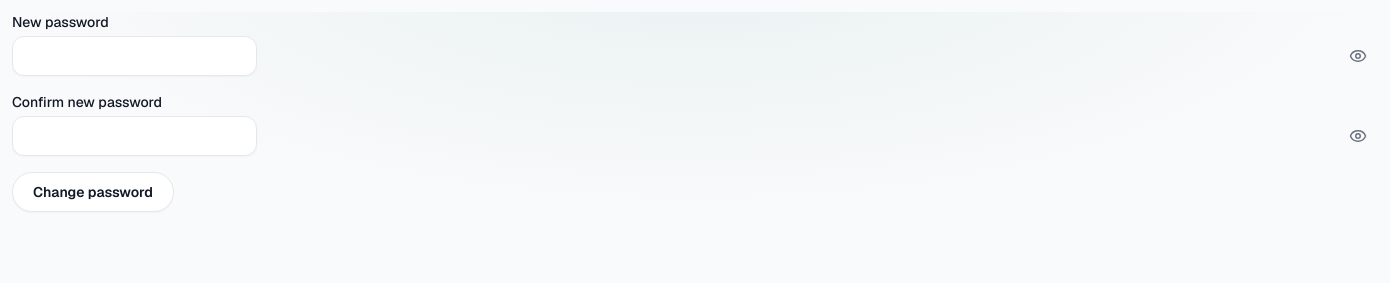
Test: ChangePasswordForm › clears a stale success/error state once the user starts editing again
Step 1. Type "correcthorse" into the password field labelled "New password" → (134, 56), box [12,36,257,76]
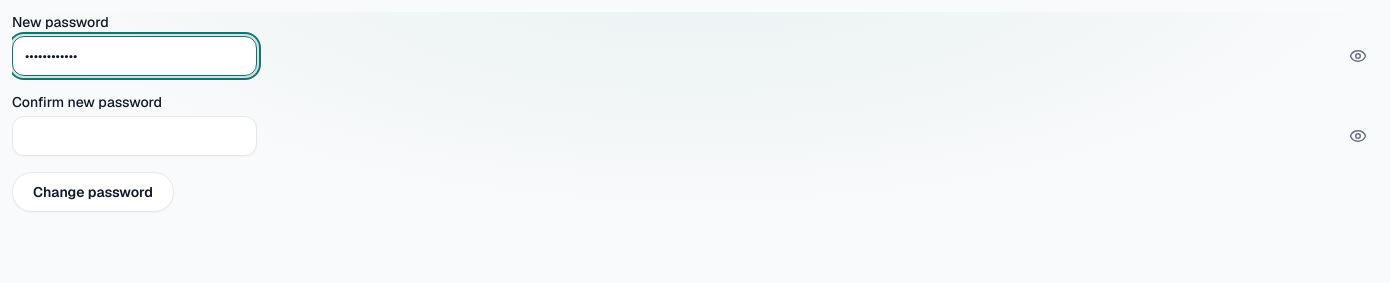
Step 2. Type "correcthorse" into the password field labelled "Confirm new password" → (134, 136), box [12,116,257,156]
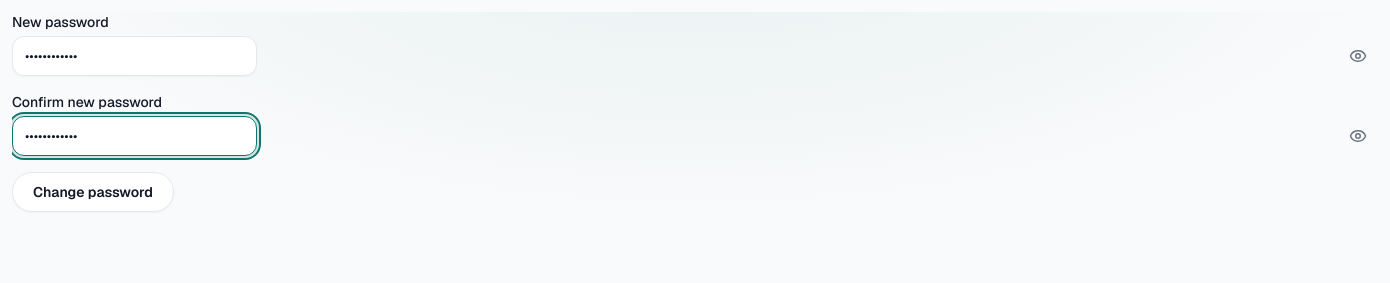
Step 3. Click the button "Change password" → (93, 192), box [12,172,174,212]
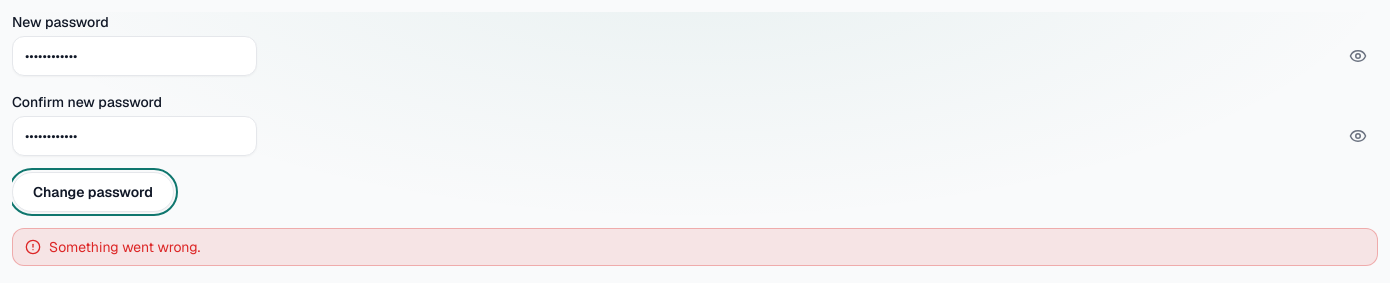
Check: the text "Something went wrong." is shown, box [49,237,200,257]
Step 4. Type "!" into the password field labelled "New password" → (134, 56), box [12,36,257,76]
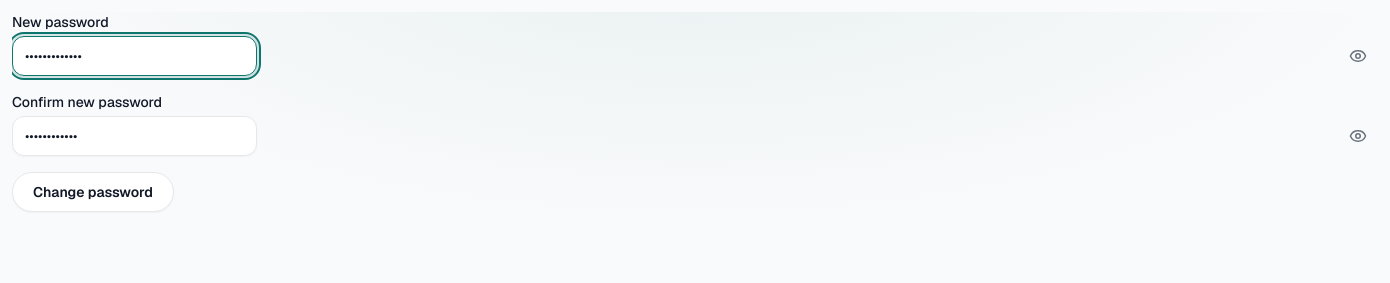
Check: the text "Something went wrong." is gone
